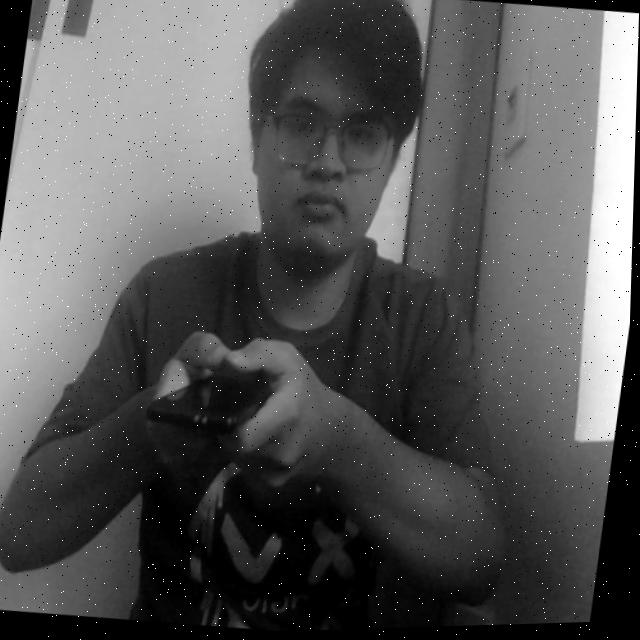phone: (134, 328, 292, 475)
